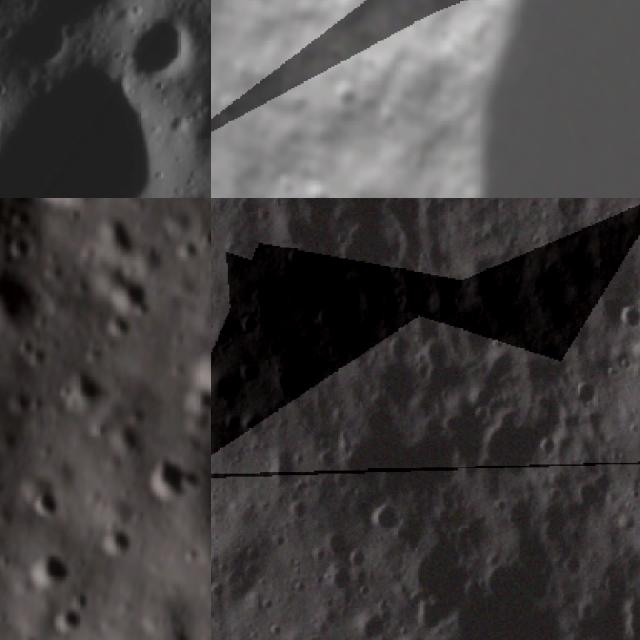crater: (0, 31, 199, 198), (105, 0, 211, 106), (475, 386, 574, 483), (0, 0, 100, 93), (169, 61, 211, 178), (145, 452, 207, 510), (0, 261, 44, 335), (314, 290, 371, 344), (58, 363, 114, 410), (97, 208, 144, 263), (32, 550, 83, 596), (262, 444, 306, 492), (269, 354, 307, 408), (349, 602, 401, 640), (274, 85, 314, 128), (367, 500, 404, 546), (217, 51, 256, 91), (570, 374, 607, 416), (320, 560, 362, 596), (610, 592, 640, 640), (46, 602, 86, 636), (278, 499, 314, 534), (262, 167, 301, 198), (612, 296, 640, 339), (236, 308, 269, 341), (191, 338, 211, 392), (401, 144, 434, 174), (383, 331, 414, 362), (320, 34, 350, 65), (300, 177, 337, 198), (295, 38, 321, 64), (354, 48, 379, 74), (277, 69, 301, 93), (262, 79, 287, 102), (248, 66, 272, 89), (442, 29, 464, 52)
